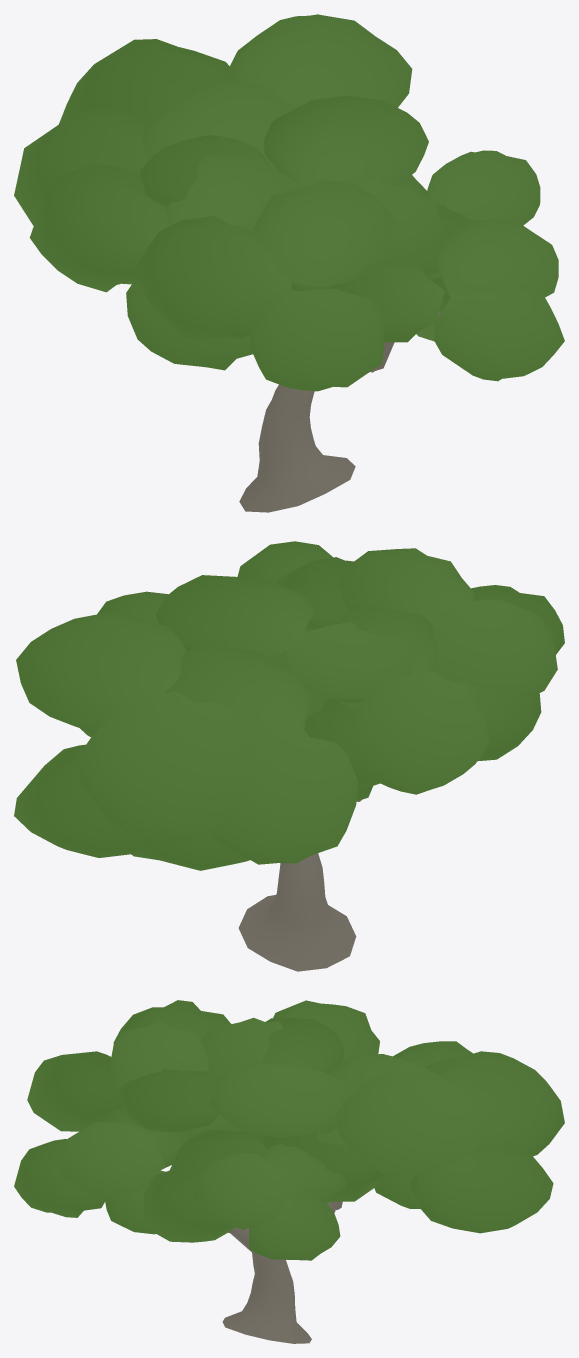
File: Blender_GarryOak_2.glb
3 renders of one model, top to bottom at view 1: azimuth 30°, elevation 25°; view 2: azimuth 150°, elevation 25°; view 3: azimuth 270°, elevation 25°, orthographic. The views are drawn at different scales.
Parts seen in each view (by area): view 1: Blender_GarryOak_2; view 2: Blender_GarryOak_2; view 3: Blender_GarryOak_2.
Boxes of the visible parts, x1,y1,x2,y2 form: Blender_GarryOak_2: [14, 14, 564, 512]; Blender_GarryOak_2: [14, 541, 564, 971]; Blender_GarryOak_2: [14, 1000, 564, 1343].
Bounding box in the file's own units: 13.83 × 11.33 × 18.4.
